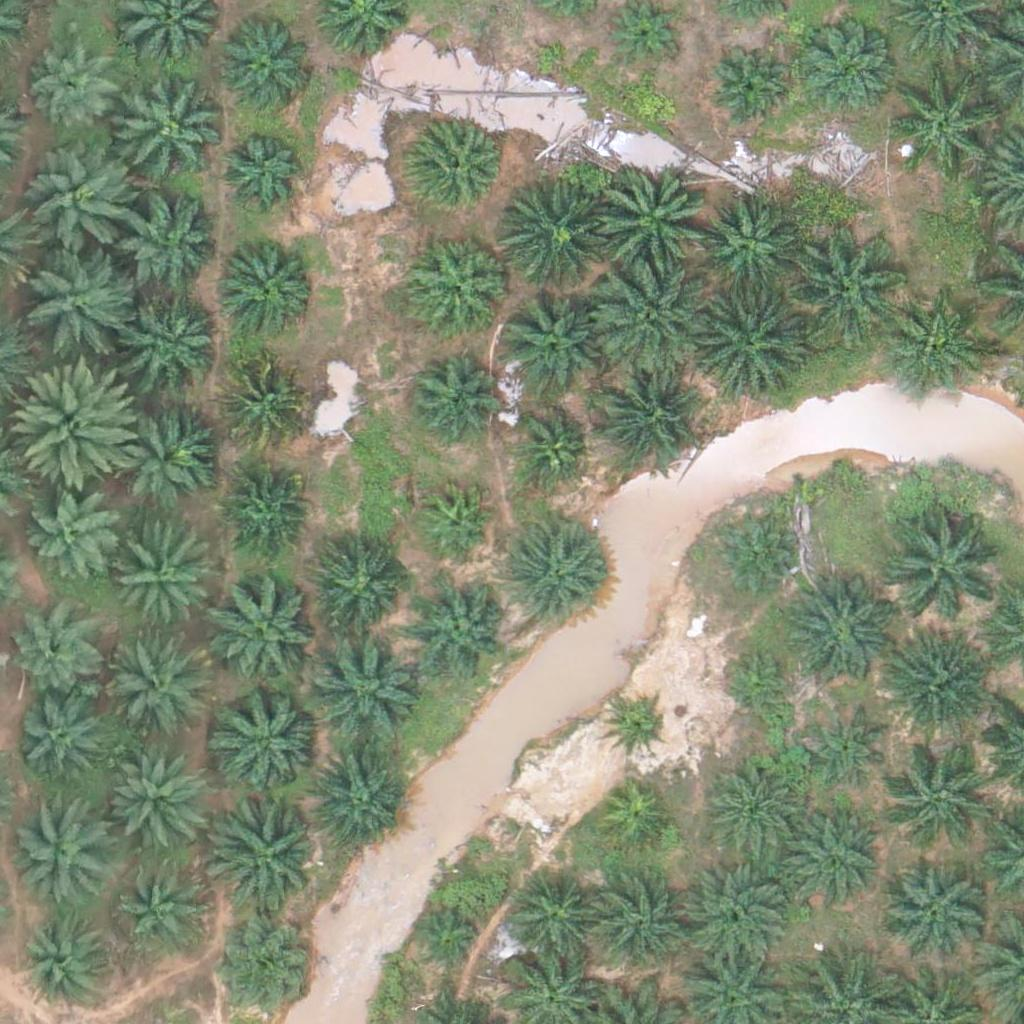Kelapa_Sawit: (16, 363, 141, 489), (690, 287, 803, 401), (18, 241, 131, 355), (887, 505, 1000, 618), (781, 578, 894, 691), (679, 856, 792, 969), (307, 629, 420, 742), (208, 573, 321, 686), (212, 684, 325, 797), (497, 183, 610, 296), (112, 72, 225, 185), (25, 147, 138, 260), (886, 736, 998, 850), (877, 633, 989, 746), (790, 229, 902, 342), (598, 262, 710, 375), (211, 796, 323, 909), (891, 66, 1003, 179), (597, 166, 709, 279), (881, 861, 981, 962), (498, 292, 598, 393), (781, 812, 881, 913), (589, 878, 689, 979), (504, 869, 604, 970), (306, 750, 406, 851), (218, 234, 318, 335), (125, 293, 225, 394), (111, 530, 211, 631), (106, 642, 206, 743), (102, 750, 202, 851), (697, 193, 797, 294), (886, 302, 986, 402), (596, 367, 696, 467), (506, 527, 606, 627), (704, 760, 804, 860), (409, 235, 509, 335), (412, 580, 512, 680), (120, 200, 220, 300), (110, 400, 210, 500), (13, 802, 113, 902), (795, 18, 895, 118), (407, 120, 507, 220), (215, 20, 315, 120), (804, 706, 892, 794), (709, 514, 797, 602), (406, 352, 494, 440), (317, 547, 405, 635), (217, 358, 305, 446), (10, 610, 98, 698), (707, 47, 795, 135), (216, 127, 304, 215), (13, 697, 100, 786), (220, 466, 307, 554), (120, 868, 207, 956), (22, 917, 109, 1005), (28, 490, 115, 578), (34, 46, 121, 134), (418, 483, 493, 559), (513, 409, 588, 484), (721, 645, 796, 720), (597, 783, 672, 858), (412, 907, 487, 982), (606, 696, 669, 759)
